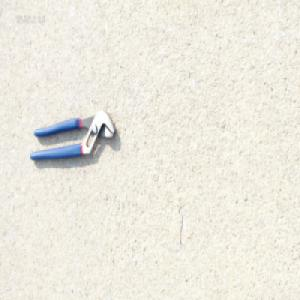Pliers: (28, 107, 116, 164)
